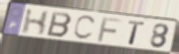8: (149, 23, 170, 49)
B: (45, 11, 73, 39)
C: (72, 15, 98, 42)
F: (96, 16, 124, 44)
H: (20, 8, 52, 37)
T: (127, 19, 147, 46)
